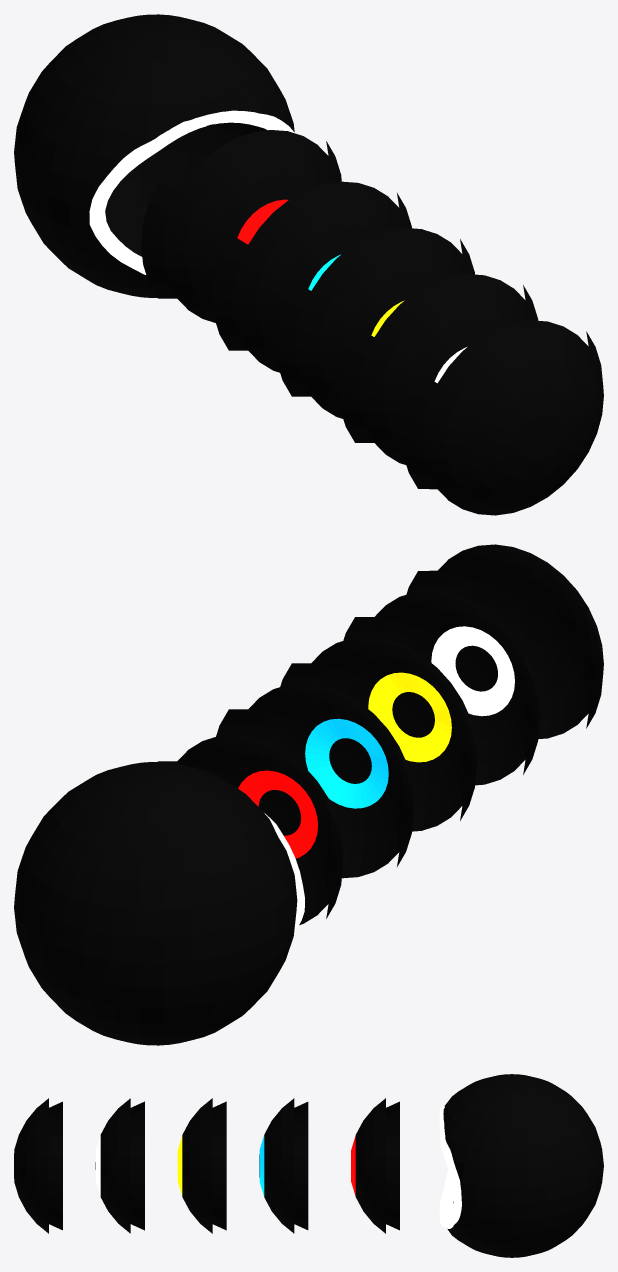
The model's file is eye_color_3.glb.
3 views of the same model, one above another, from view 1: azimuth 30°, elevation 25°; view 2: azimuth 150°, elevation 25°; view 3: azimuth 270°, elevation 25° (orthographic). The views are drawn at different scales.
Visible parts, largest first — view 1: Sphere.001, Off, Red, Blue, Yellow, White, Torus.001; view 2: Sphere.001, Blue, Off, White, Yellow, Red, Torus.001; view 3: Sphere.001, Blue, Yellow, White, Red, Off, Torus.001.
Part boxes in pixels (left/top/right/bottom): Sphere.001: left=14, top=14, right=294, bottom=297; Off: left=401, top=320, right=603, bottom=515; Red: left=141, top=130, right=341, bottom=322; Blue: left=211, top=181, right=411, bottom=372; Yellow: left=275, top=228, right=474, bottom=418; White: left=338, top=274, right=538, bottom=464; Torus.001: left=89, top=110, right=295, bottom=274; Sphere.001: left=14, top=762, right=297, bottom=1045; Blue: left=216, top=683, right=414, bottom=878; Off: left=406, top=544, right=603, bottom=738; White: left=343, top=590, right=540, bottom=785; Yellow: left=280, top=637, right=477, bottom=831; Red: left=158, top=735, right=343, bottom=925; Torus.001: left=264, top=813, right=304, bottom=930; Sphere.001: left=443, top=1074, right=603, bottom=1257; Blue: left=259, top=1098, right=308, bottom=1233; Yellow: left=177, top=1098, right=226, bottom=1233; White: left=95, top=1098, right=144, bottom=1233; Red: left=351, top=1098, right=399, bottom=1233; Off: left=14, top=1098, right=62, bottom=1233; Torus.001: left=439, top=1105, right=461, bottom=1228.
Size of the model in its own units: 2.25 by 2.25 by 7.21.
